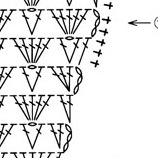chain: (152, 16, 158, 29)
enseble_chain: (61, 3, 98, 41), (26, 90, 61, 128), (26, 33, 60, 70), (44, 60, 76, 99), (66, 33, 99, 70), (6, 31, 35, 69), (22, 121, 53, 154), (48, 107, 70, 153), (23, 64, 53, 97), (22, 7, 52, 40), (53, 35, 77, 66), (67, 65, 86, 94), (86, 9, 105, 36), (127, 14, 153, 32), (60, 8, 77, 35), (64, 124, 74, 144)
fan: (9, 34, 36, 68), (16, 92, 38, 123)
